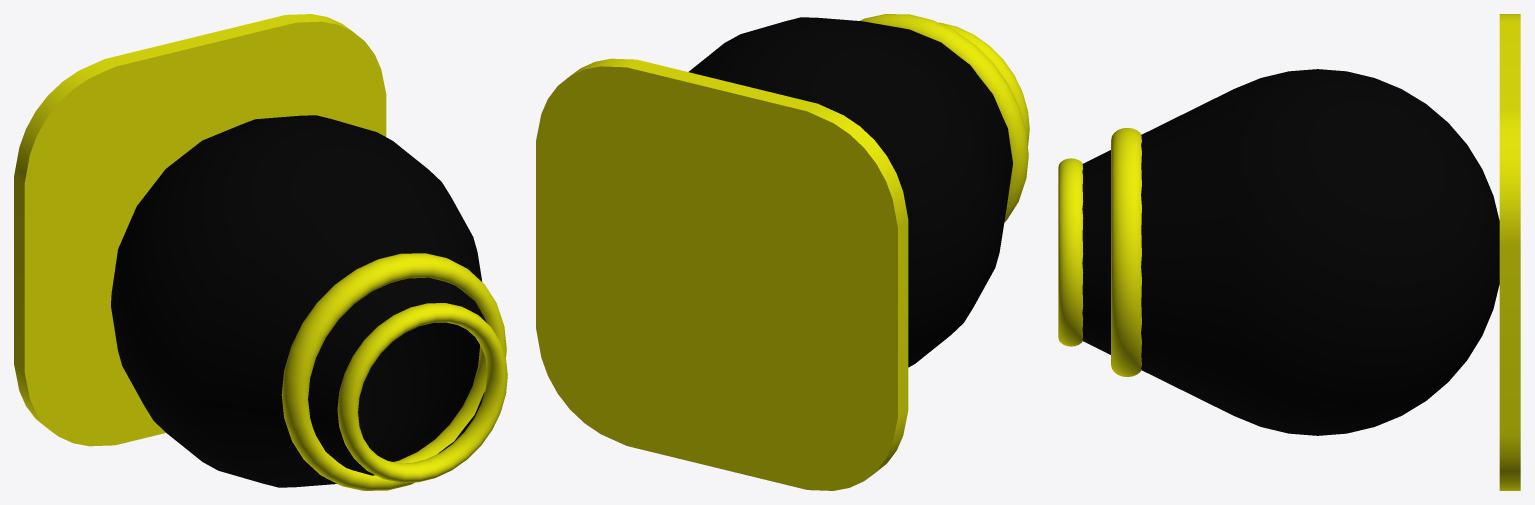
File: Level9.fbx
3 views of the same model, side by side, from view 1: azimuth 30°, elevation 25°; view 2: azimuth 150°, elevation 25°; view 3: azimuth 270°, elevation 25° (orthographic).
Visible parts, largest first — view 1: pTorus3, pCube6; view 2: pCube6, pTorus3; view 3: pTorus3, pCube6.
Part boxes in pixels (bbox=[...]): pTorus3: bbox=[111, 115, 507, 490]; pCube6: bbox=[14, 14, 386, 446]; pCube6: bbox=[536, 58, 908, 490]; pTorus3: bbox=[689, 14, 1029, 367]; pTorus3: bbox=[1058, 69, 1499, 435]; pCube6: bbox=[1499, 14, 1520, 490].
Size of the model in its own units: 5.8 by 5.8 by 6.5.
